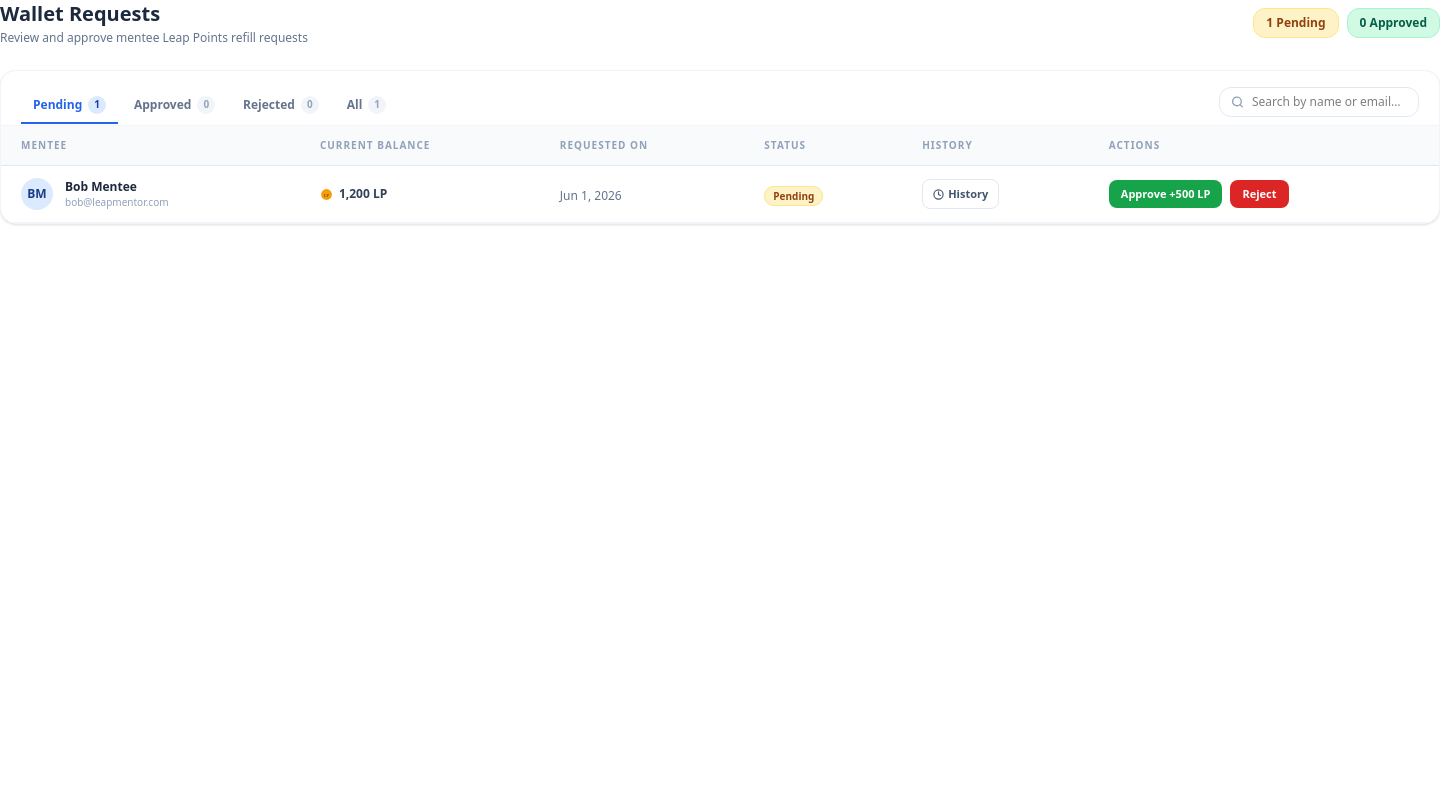
AdminWalletRequests › opens the Mentee History modal, fetches and filters engagements by _id, and closes it
Expected: the text "Bob Mentee" is shown, top-left (65, 178), bottom-right (137, 194)
Click the button "History".
click(961, 194)  # box top-left (922, 179), bottom-right (999, 209)
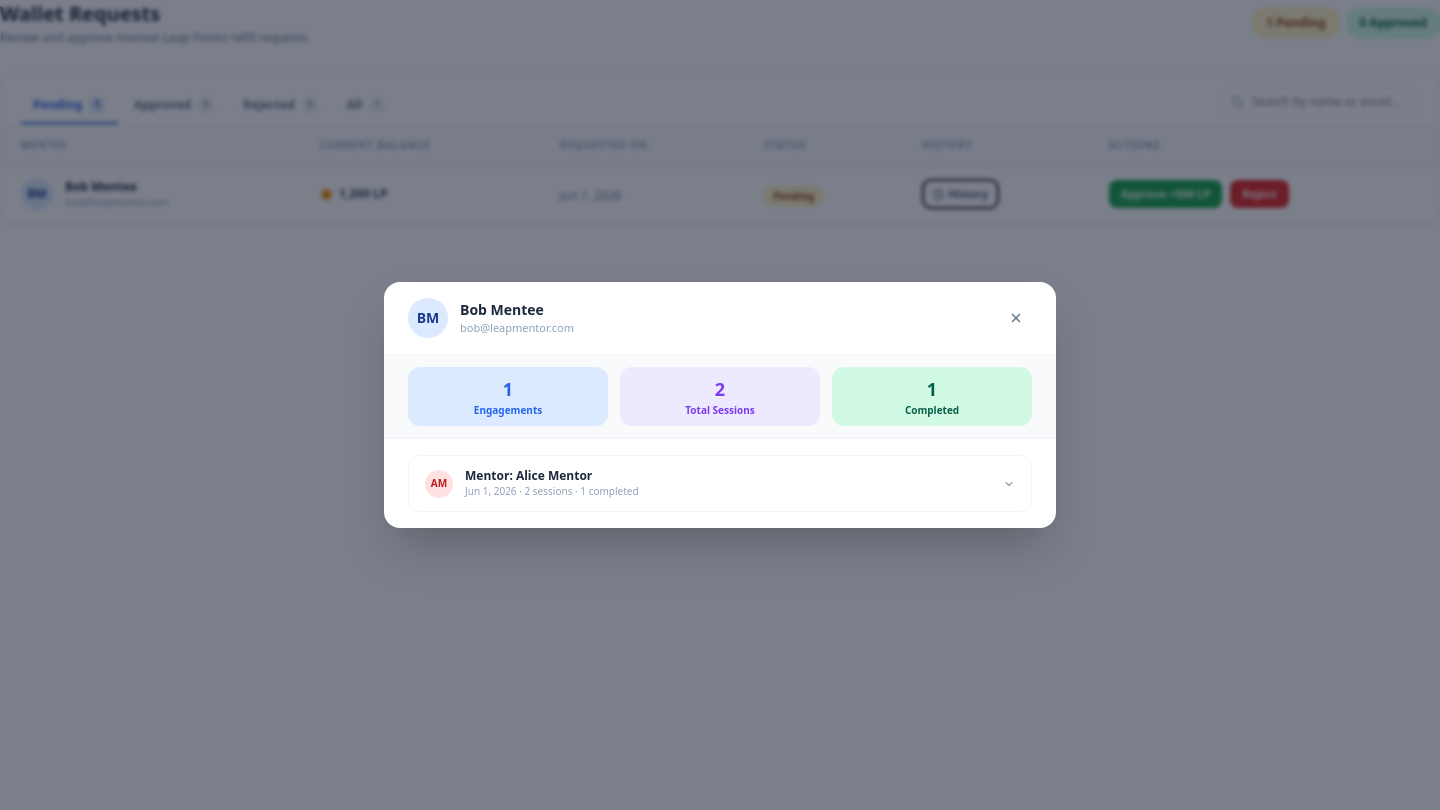
Expected: the text "Mentor: Alice Mentor" is shown
// Expand engagement row to view slots
Click the text "Mentor: Alice Mentor".
click(529, 476)  # box top-left (465, 467), bottom-right (592, 484)
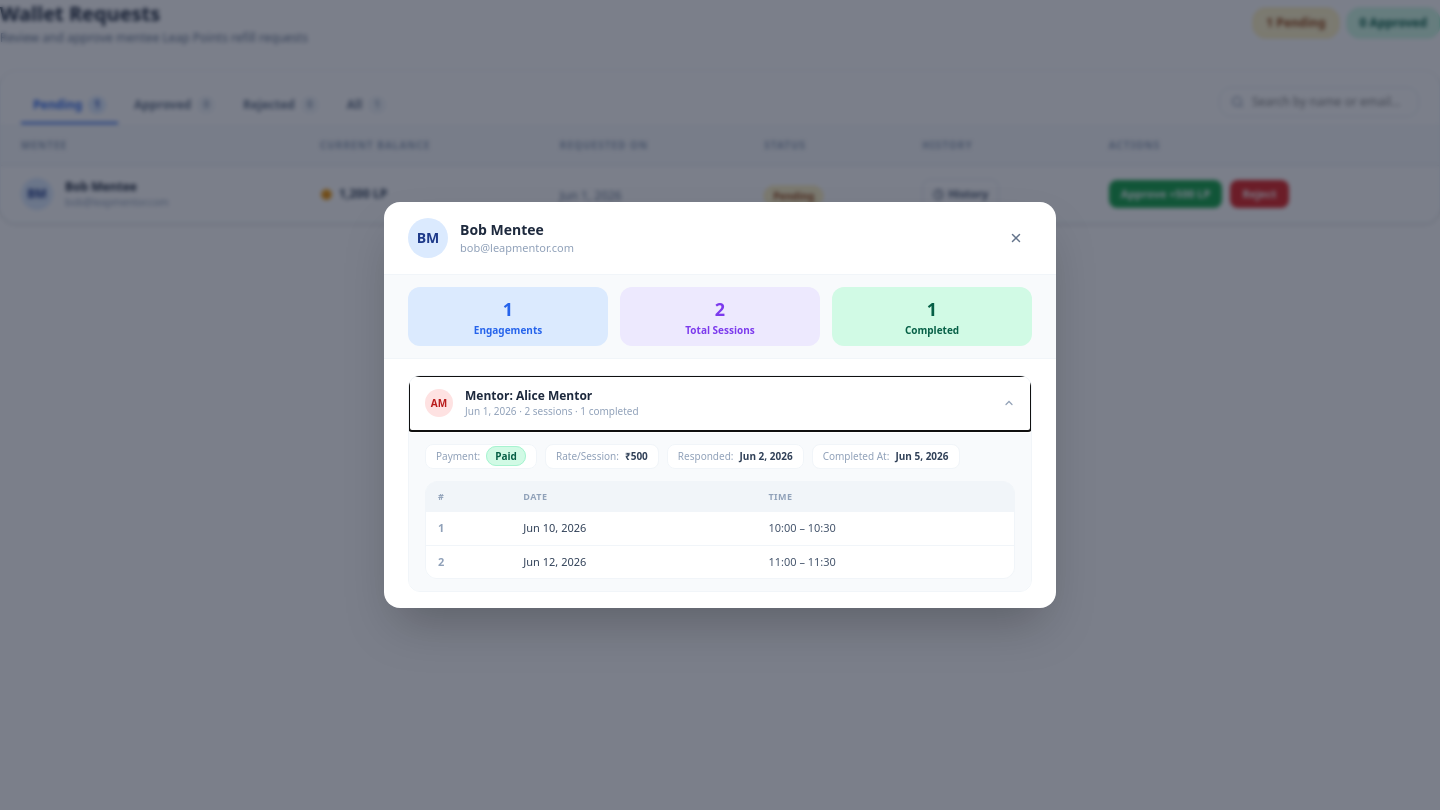
Expected: the text "10:00 – 10:30" is shown, top-left (756, 512), bottom-right (1014, 545)
Expected: the text "11:00 – 11:30" is shown, top-left (756, 545), bottom-right (1014, 578)
// Collapse again
Click the text "Mentor: Alice Mentor".
click(529, 395)  # box top-left (465, 387), bottom-right (592, 404)
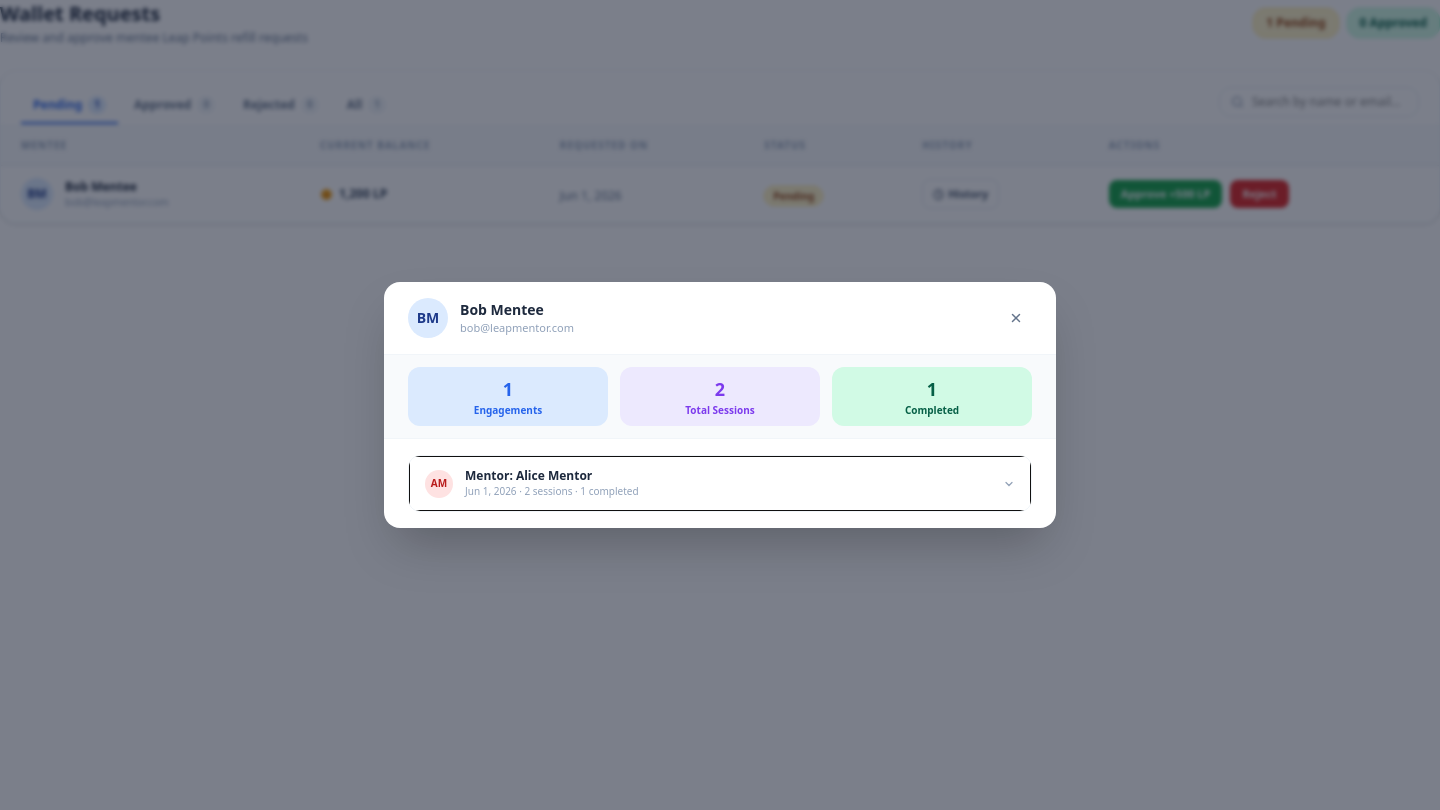
Expected: the text "10:00 – 10:30" is gone
// Close modal
Click the 1st button.
click(1016, 318)  # box top-left (1000, 302), bottom-right (1032, 334)
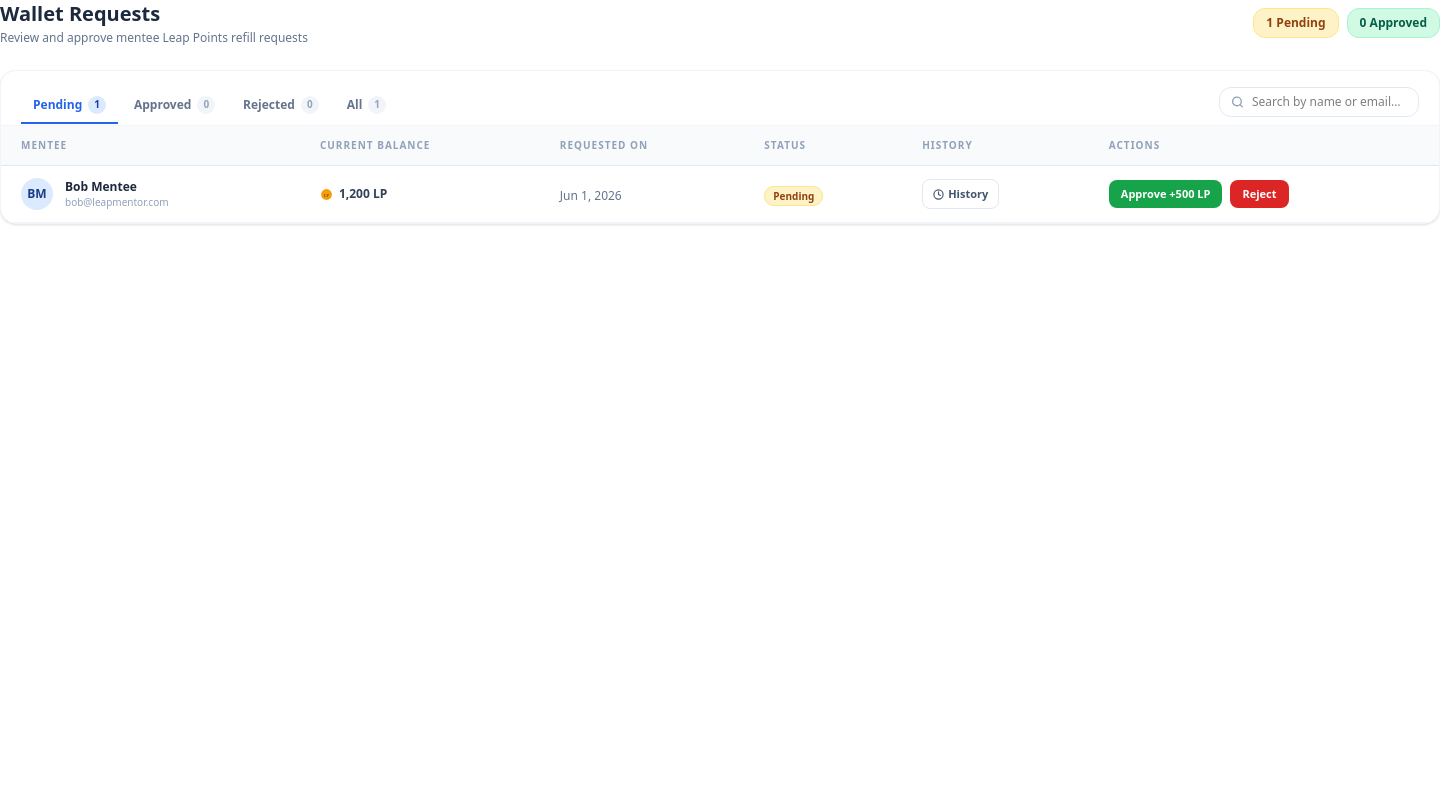
Expected: the button "Mentor: Alice Mentor" is gone
